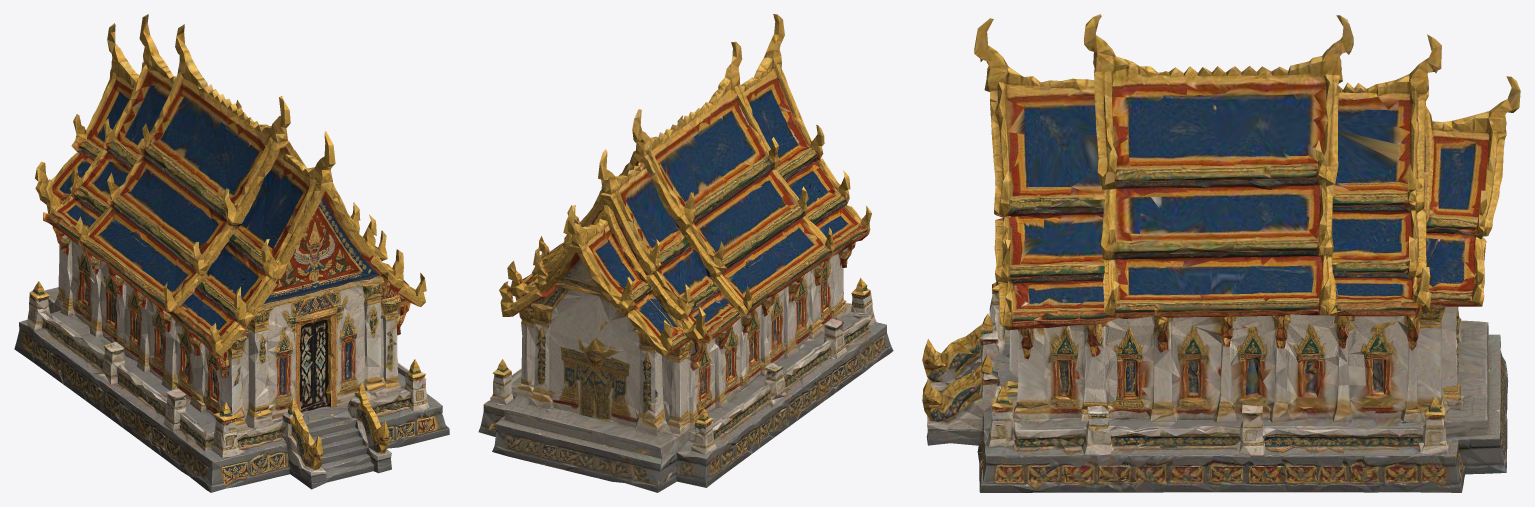
Rendered from thai_temple.glb.
The picture shows the model from 3 angles, left to right: view 1: azimuth 30°, elevation 25°; view 2: azimuth 150°, elevation 25°; view 3: azimuth 270°, elevation 25°; orthographic projection. The views are drawn at different scales.
Parts seen in each view (by area): view 1: m; view 2: m; view 3: m.
Boxes of the visible parts, x1=… form: m: x1=14, y1=14, x2=449, y2=492; m: x1=478, y1=14, x2=893, y2=492; m: x1=922, y1=14, x2=1520, y2=492.
Size of the model in its own units: 12.16 by 16 by 21.31.
1 material, 1 textured.
